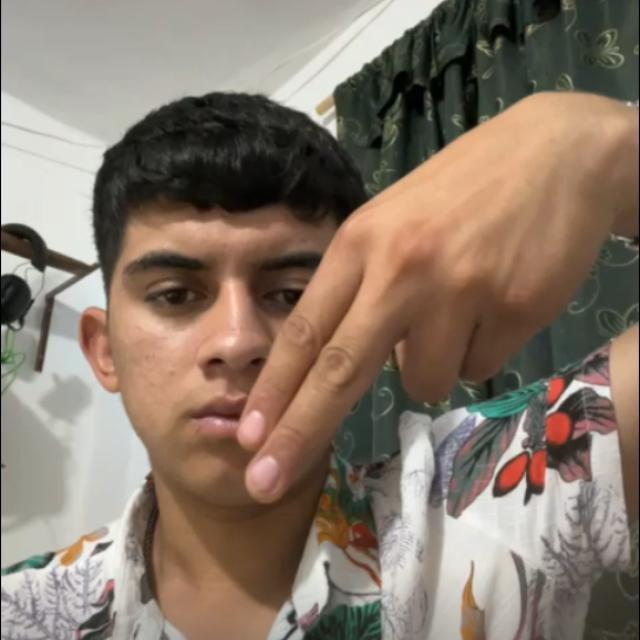N: (201, 77, 631, 537)
